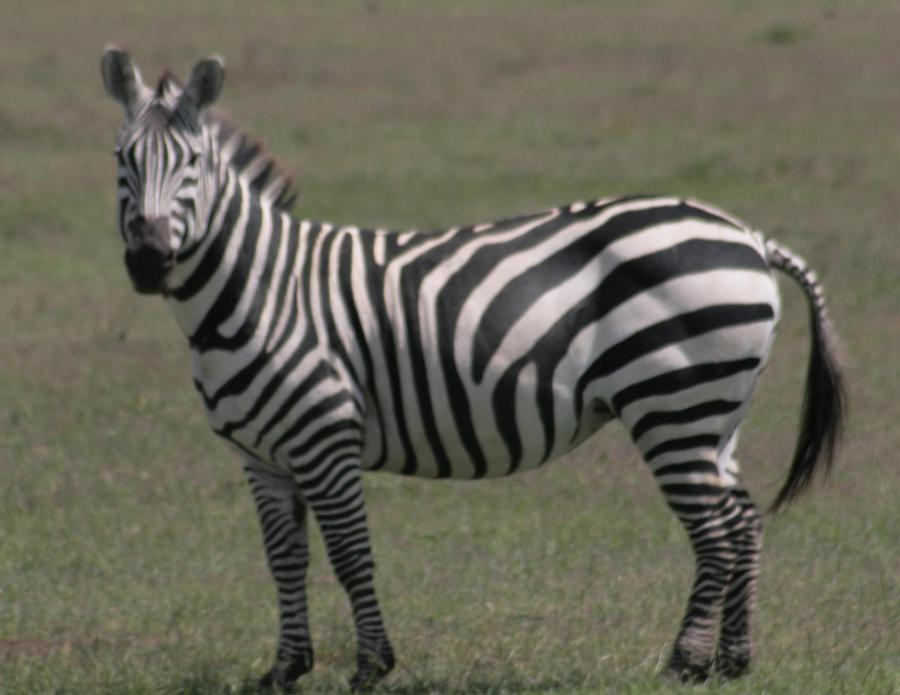zebra_plains: (216, 188, 758, 460)
